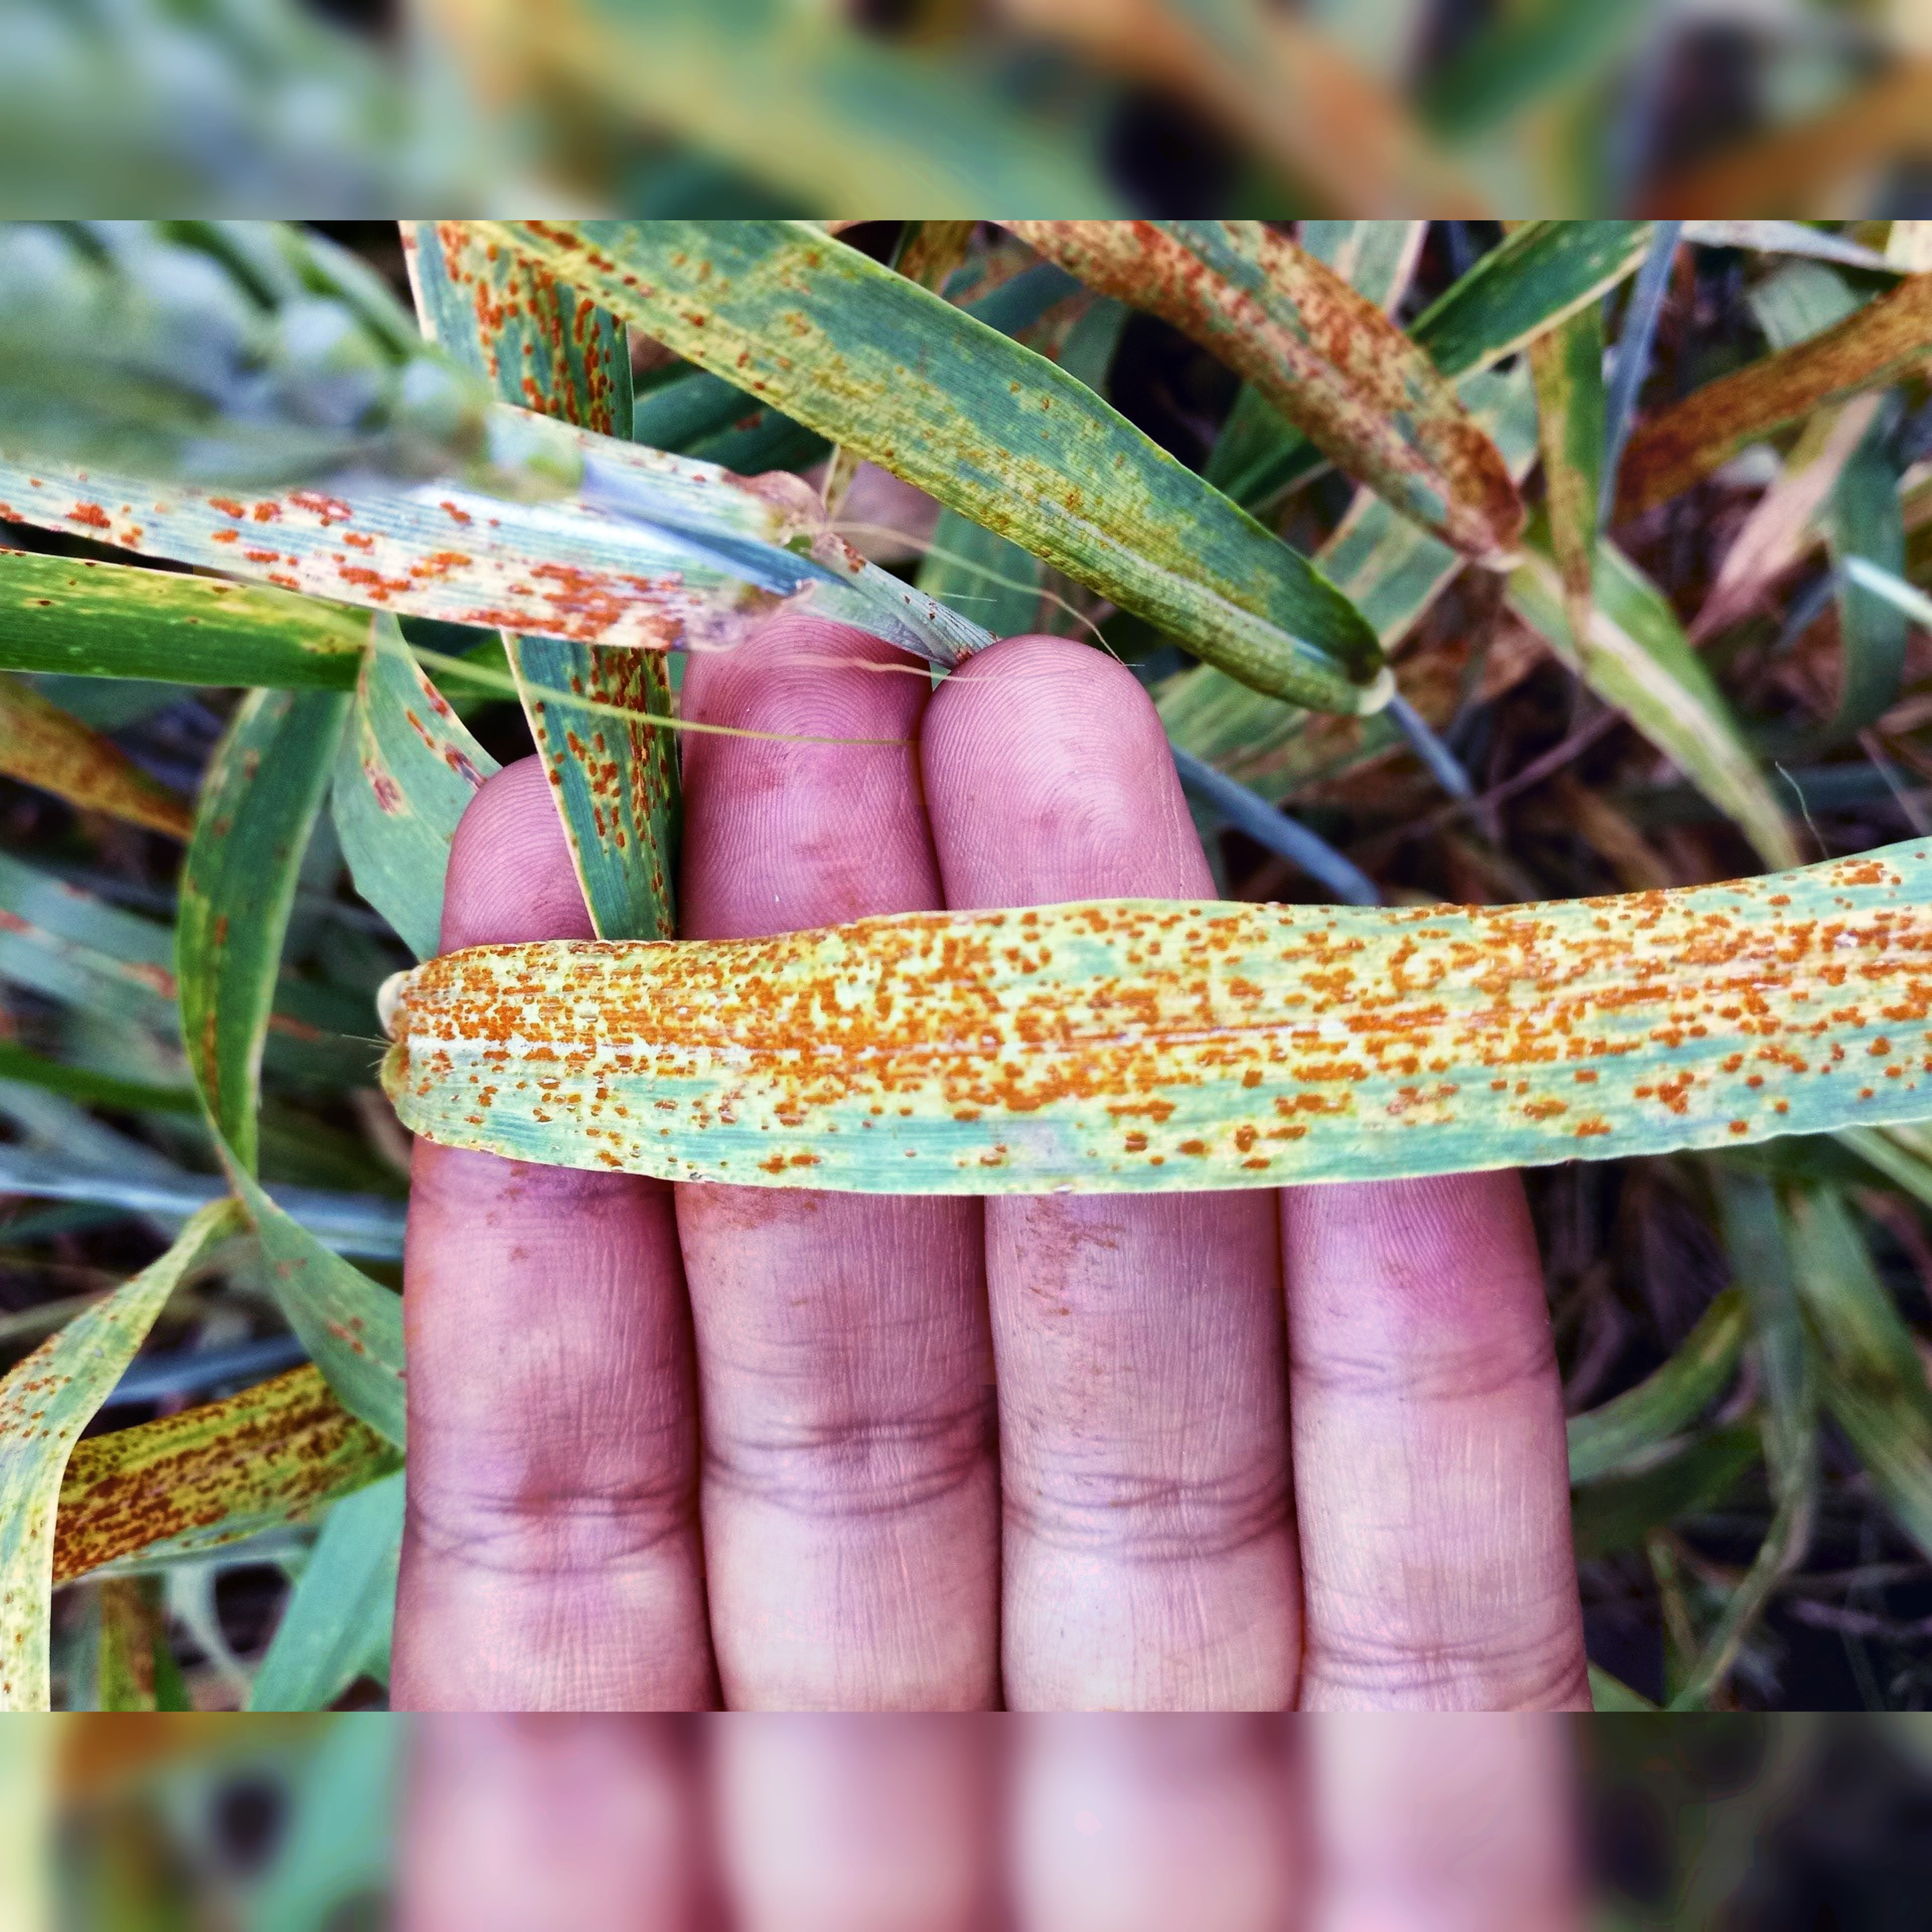Leaf Rust: (418, 879, 1927, 1217)
